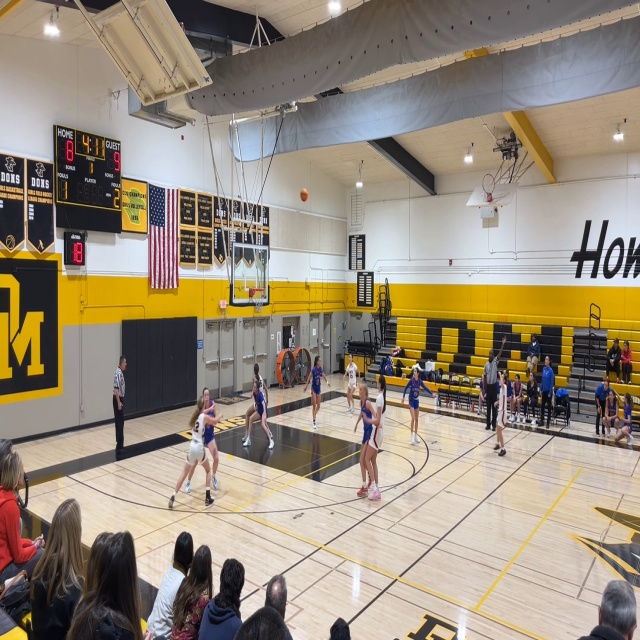Basketball: (300, 188, 308, 202)
